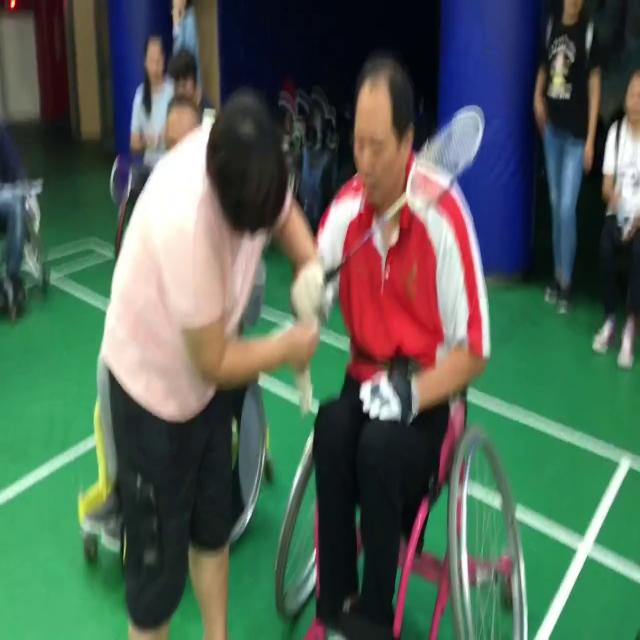wheelchairs: (268, 331, 547, 640)
